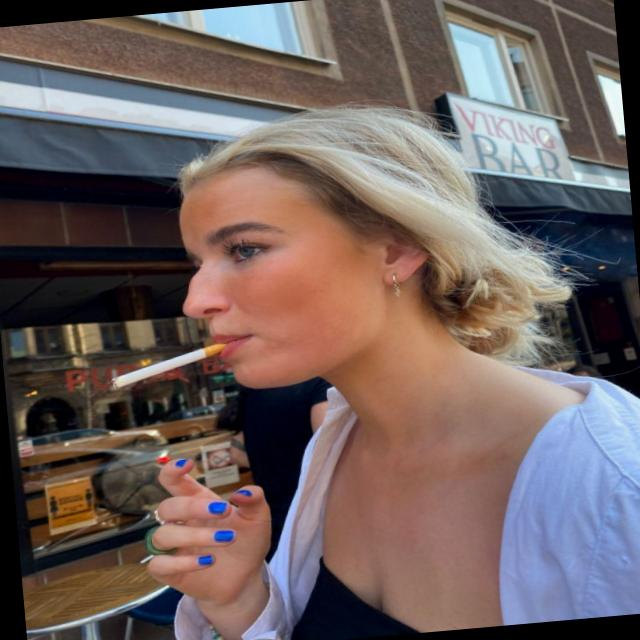smoke: (68, 322, 260, 428)
